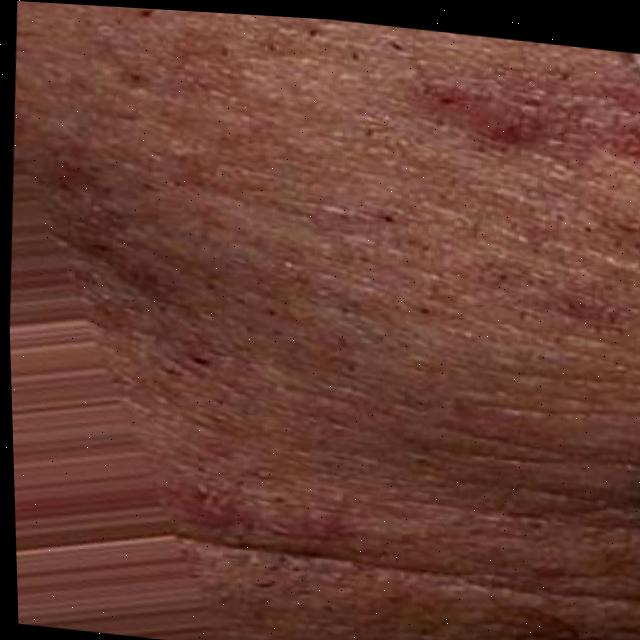Rosacea: (453, 82, 638, 176)
